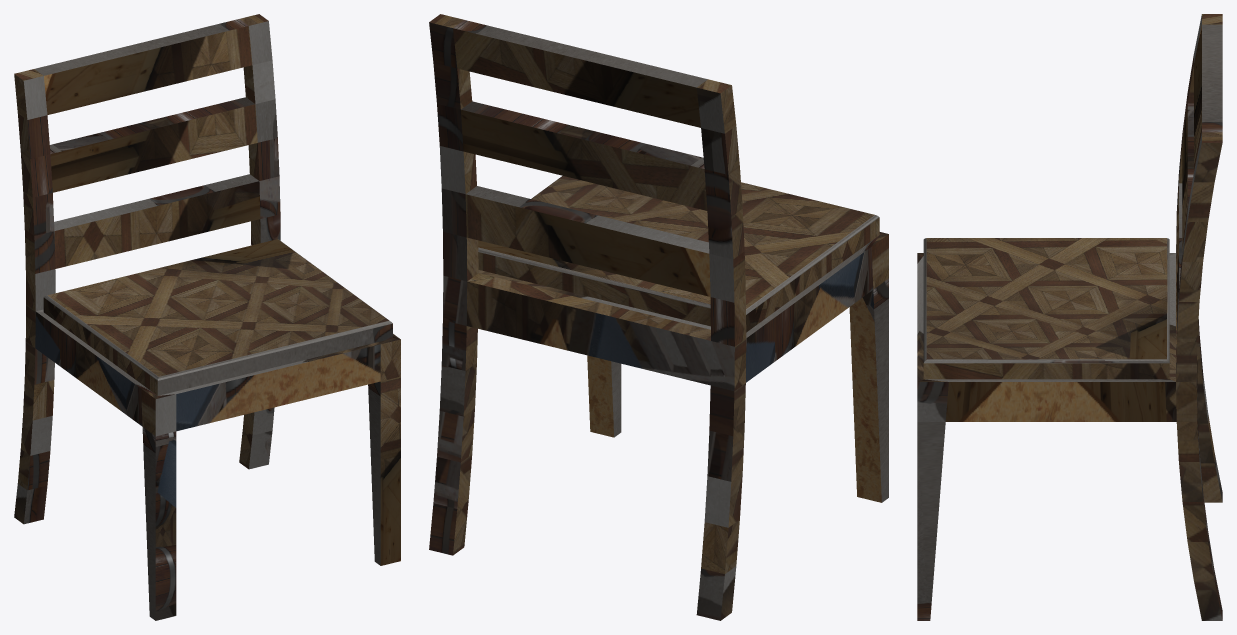
Rendered from seb_zidleee.obj.
3 renders of one model, left to right at view 1: azimuth 30°, elevation 25°; view 2: azimuth 150°, elevation 25°; view 3: azimuth 270°, elevation 25°, orthographic. The views are drawn at different scales.
Parts seen in each view (by area): view 1: ZidleB2.001_Layer0_001Mesh.001; view 2: ZidleB2.001_Layer0_001Mesh.001; view 3: ZidleB2.001_Layer0_001Mesh.001.
Part boxes in pixels (bbox=[...]): ZidleB2.001_Layer0_001Mesh.001: bbox=[14, 14, 400, 620]; ZidleB2.001_Layer0_001Mesh.001: bbox=[429, 14, 888, 620]; ZidleB2.001_Layer0_001Mesh.001: bbox=[917, 14, 1222, 620].
Size of the model in its own units: 3.57 by 6.18 by 3.57.
